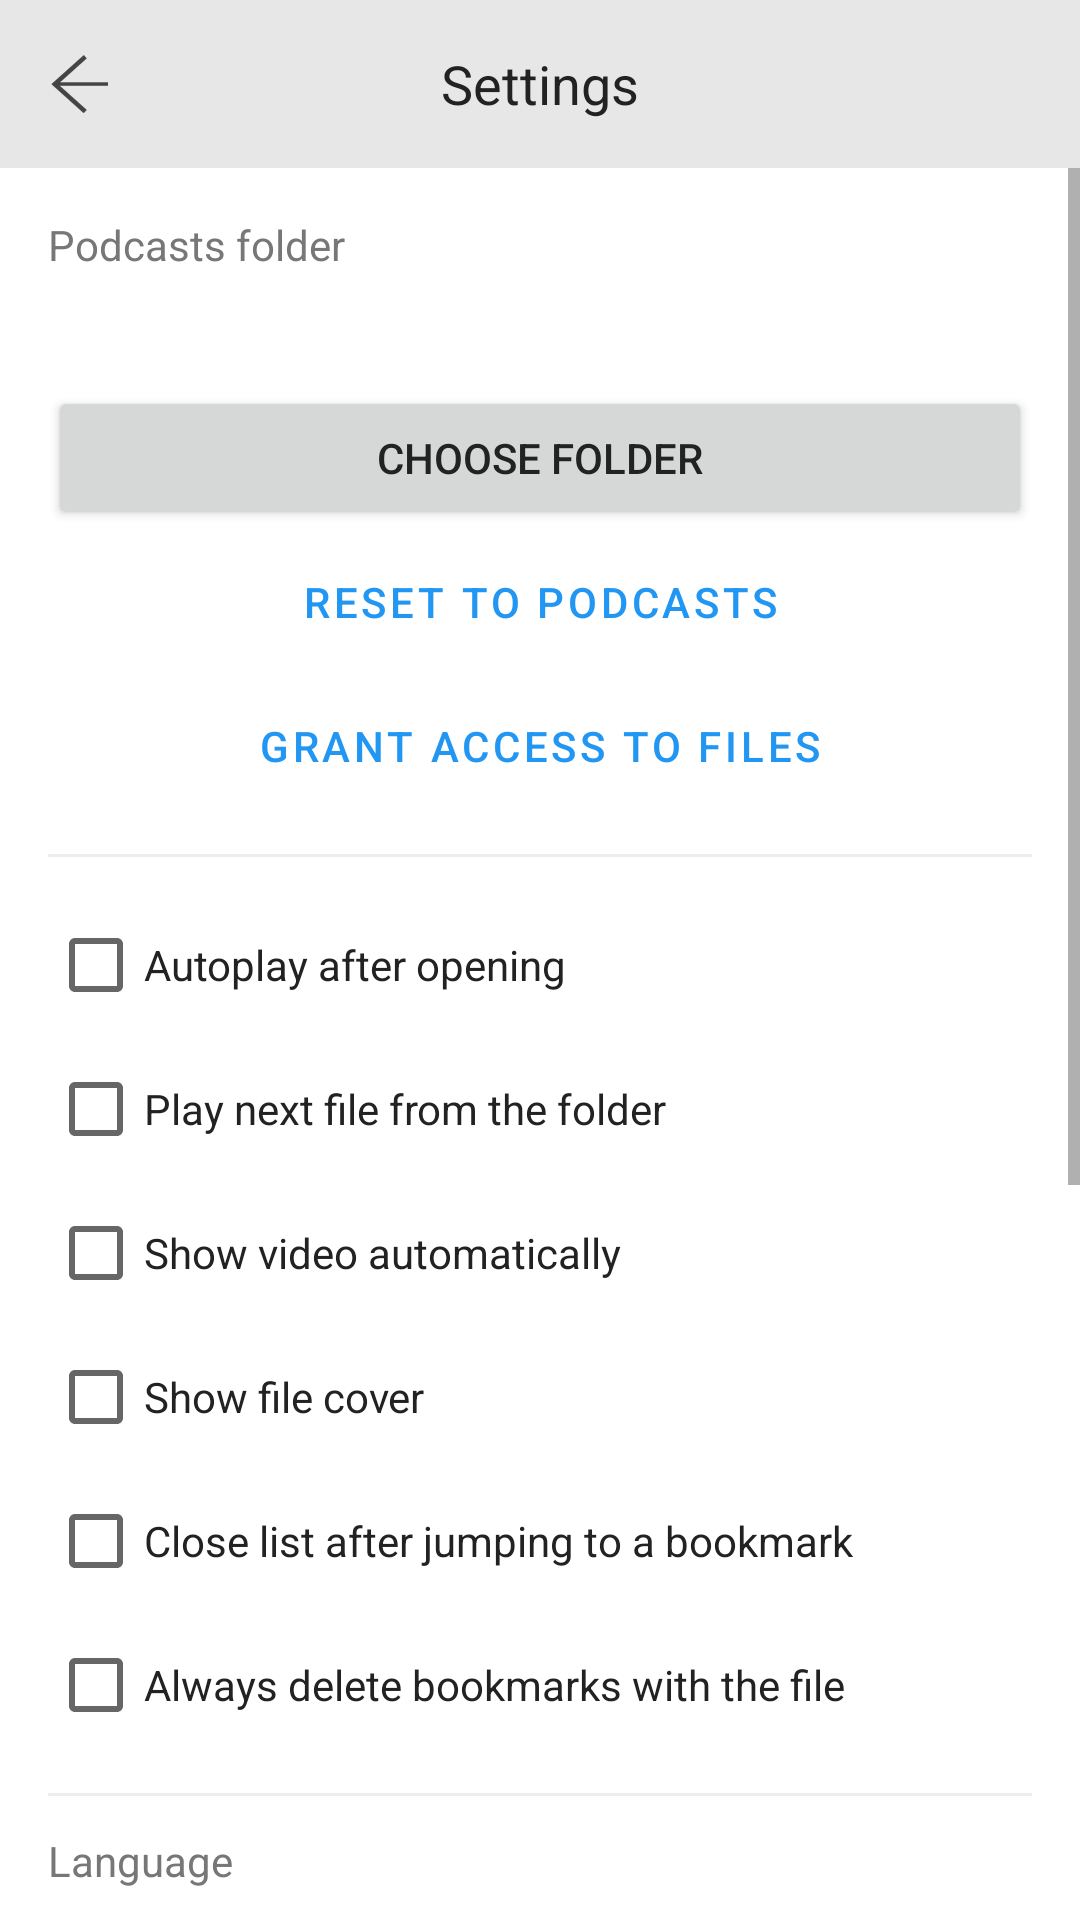

Locate icon controls on the screen. Image size 1080 × 1920, boxes as {"x1": x1, "y1": y1, "x2": x2, "y2": y2}.
Back: {"x1": 51, "y1": 55, "x2": 108, "y2": 113}
